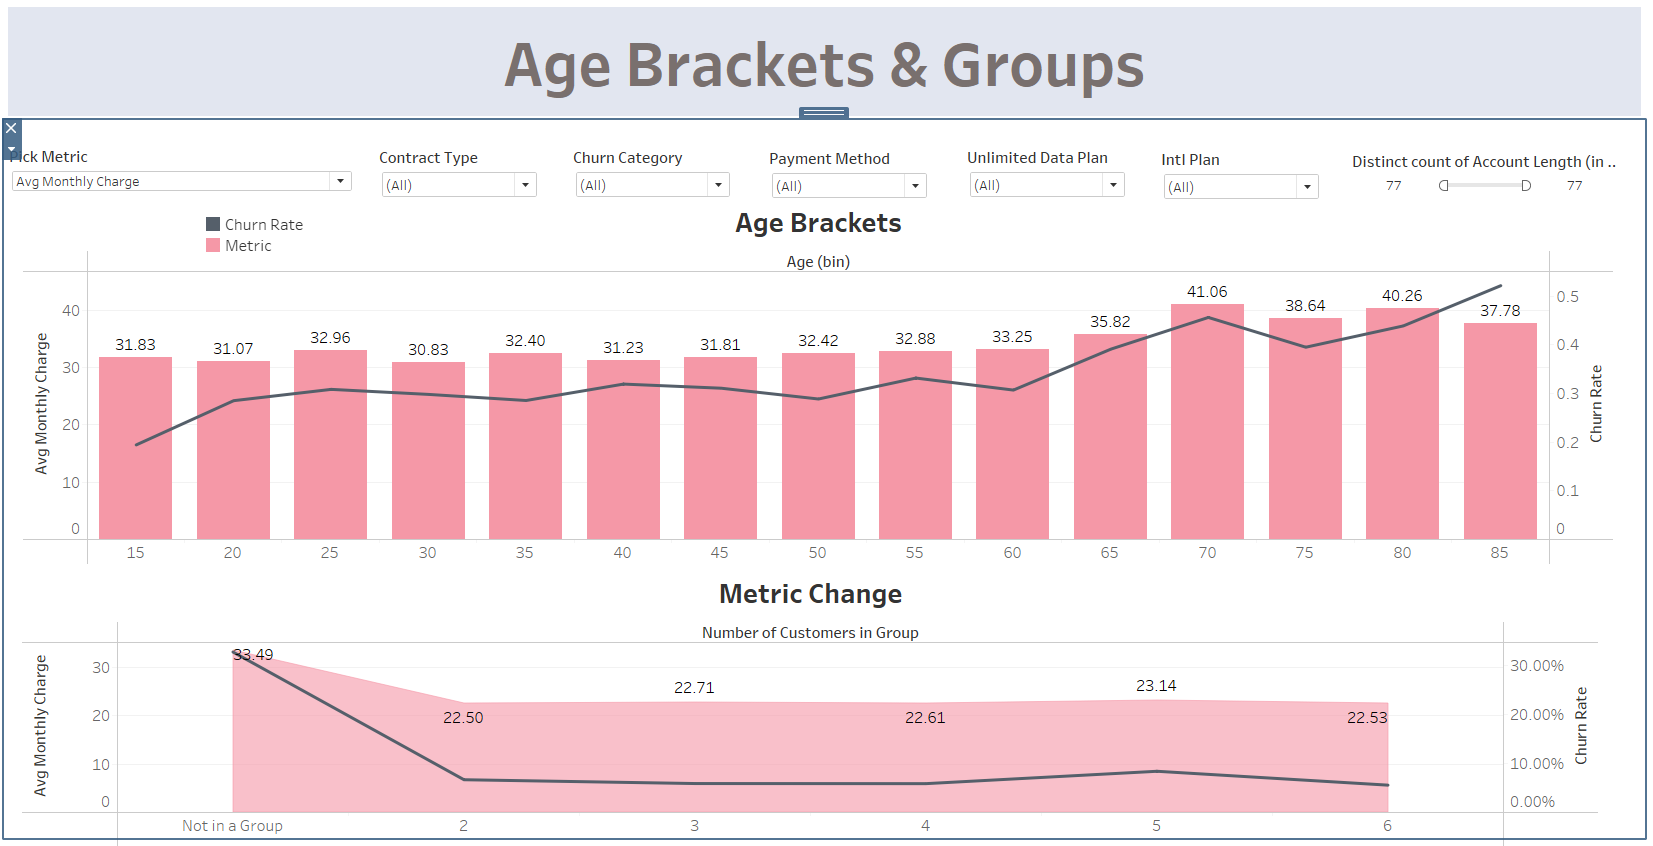

This screenshot's page, from the dashboard's own definition file:
{"tool":"tableau","page":{"name":"Age Brackets & Groups","canvas":[1000,1000],"units":"permille","ordinal":0},"visuals":[{"type":"title","box":[4.8,9.4,990.3,137.5]},{"type":"worksheet","title":"Sheet 18","mark":"Automatic","box":[21.2,34.1,1.8,5.9]},{"type":"parameter","param":"[Parameters].[Parameter 1]","box":[7.9,177.4,208.8,56.4]},{"type":"filter","title":"Sheet 18","param":"[federated.1df3qus1ghblhc1dpikp010hw947].[none:Contract Type:nk]","box":[231.1,178.6,97.2,81.1]},{"type":"filter","title":"Sheet 18","param":"[federated.1df3qus1ghblhc1dpikp010hw947].[none:Churn Category:nk]","box":[348.2,178.6,96.6,85.8]},{"type":"filter","title":"Sheet 18","param":"[federated.1df3qus1ghblhc1dpikp010hw947].[none:Unlimited Data Plan:nk]","box":[586,178.6,97.2,81.1]},{"type":"filter","title":"Sheet 18","param":"[federated.1df3qus1ghblhc1dpikp010hw947].[none:Payment Method:nk]","box":[466.5,179.8,97.2,74]},{"type":"filter","title":"Sheet 18","param":"[federated.1df3qus1ghblhc1dpikp010hw947].[none:Intl Plan:nk]","box":[703.1,181,97.2,90.5]},{"type":"filter","title":"Sheet 18","param":"[federated.1df3qus1ghblhc1dpikp010hw947].[ctd:Account Length (in months):qk]","box":[818.4,183.3,160.5,59.9]},{"type":"worksheet","title":"Age Analysis","mark":"Automatic","rows":["Calculation_1407656418353610758","Calculation_1407656418300891140"],"cols":["Age (bin)"],"box":[16.4,239.7,959.9,430.1]},{"type":"legend","title":"Age Analysis","param":"[federated.1df3qus1ghblhc1dpikp010hw947].[:Measure Names]","box":[125.1,257.3,201.2,58.8]}]}

Visuals, with their boxes on the dashboard's canvas, which has no fixed pixel size, in thousandths of its width and height (x1, y1, x2, y2). These are canvas units, not pixel positions in the 1653x846 screenshot, which may show the page scaled, cropped or inside an application window:
title: x1=5 y1=9 x2=995 y2=147
"Sheet 18" worksheet: x1=21 y1=34 x2=23 y2=40
parameter: x1=8 y1=177 x2=217 y2=234
"Sheet 18" filter: x1=231 y1=179 x2=328 y2=260
"Sheet 18" filter: x1=348 y1=179 x2=445 y2=264
"Sheet 18" filter: x1=586 y1=179 x2=683 y2=260
"Sheet 18" filter: x1=466 y1=180 x2=564 y2=254
"Sheet 18" filter: x1=703 y1=181 x2=800 y2=272
"Sheet 18" filter: x1=818 y1=183 x2=979 y2=243
"Age Analysis" worksheet: x1=16 y1=240 x2=976 y2=670
"Age Analysis" legend: x1=125 y1=257 x2=326 y2=316
